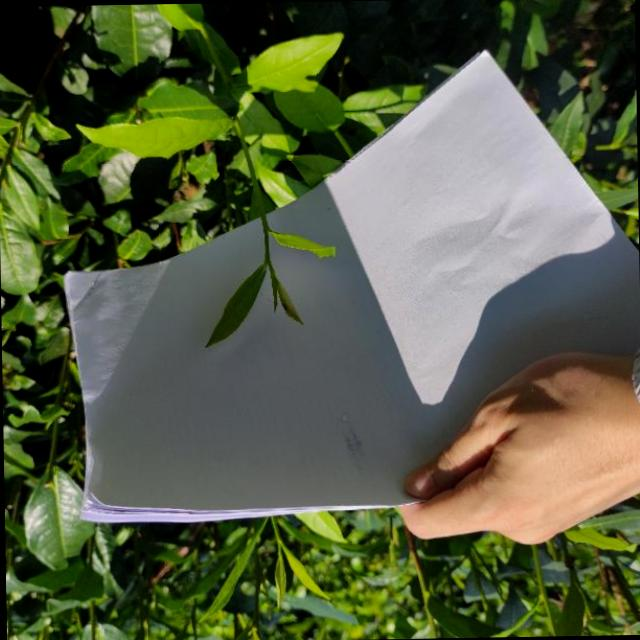Stem: (263, 253, 269, 261), (276, 538, 280, 544)
